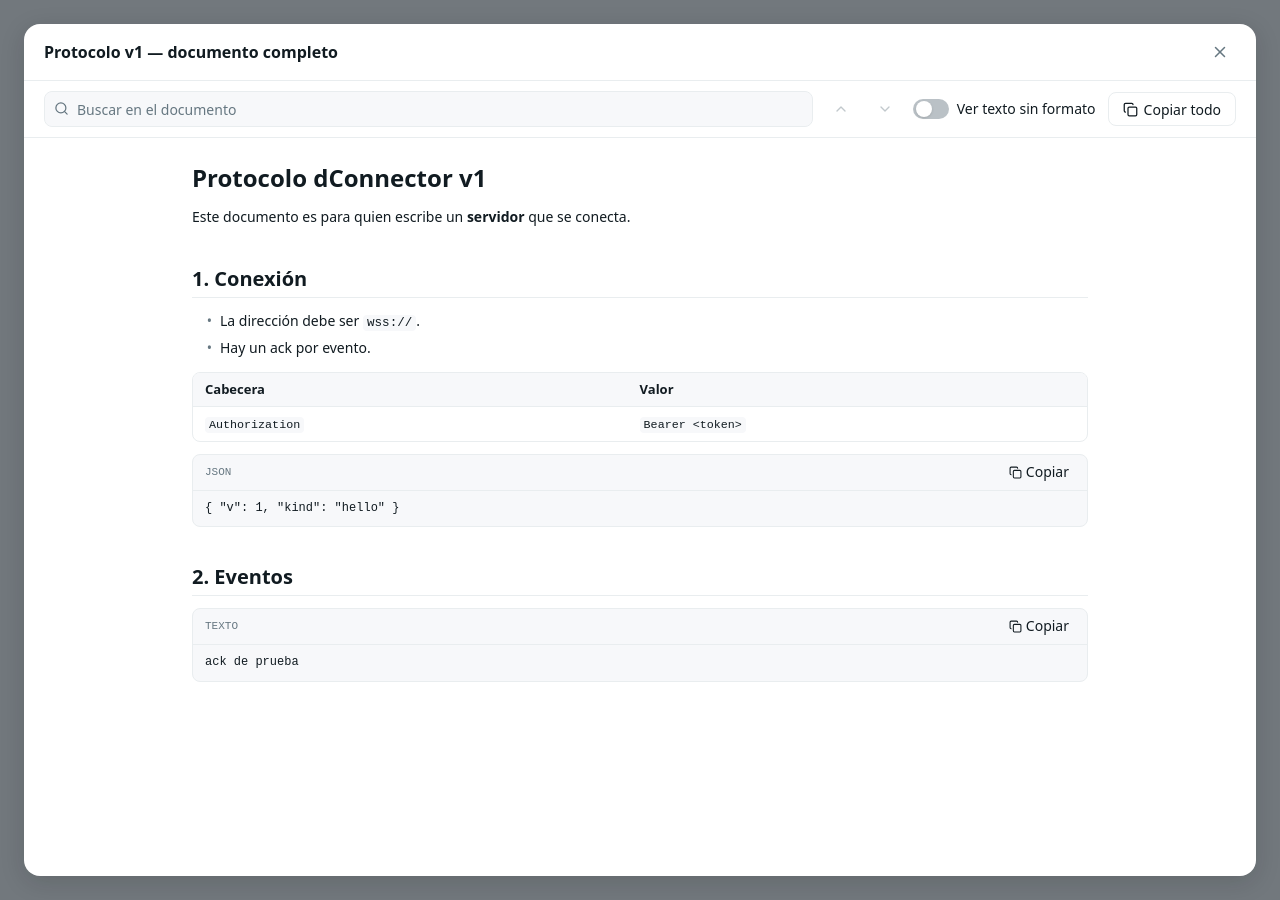
Test: diálogo del protocolo › encuentra sin distinguir tildes y avisa si no hay resultados
This screenshot has width=1280, height=900.
Expected: the heading "Protocolo dConnector v1" is shown, [192,161,486,194]
Type "conexion" into the search field labelled "Buscar en el documento".
click(428, 109); type("conexion")  # box [44,91,813,127]
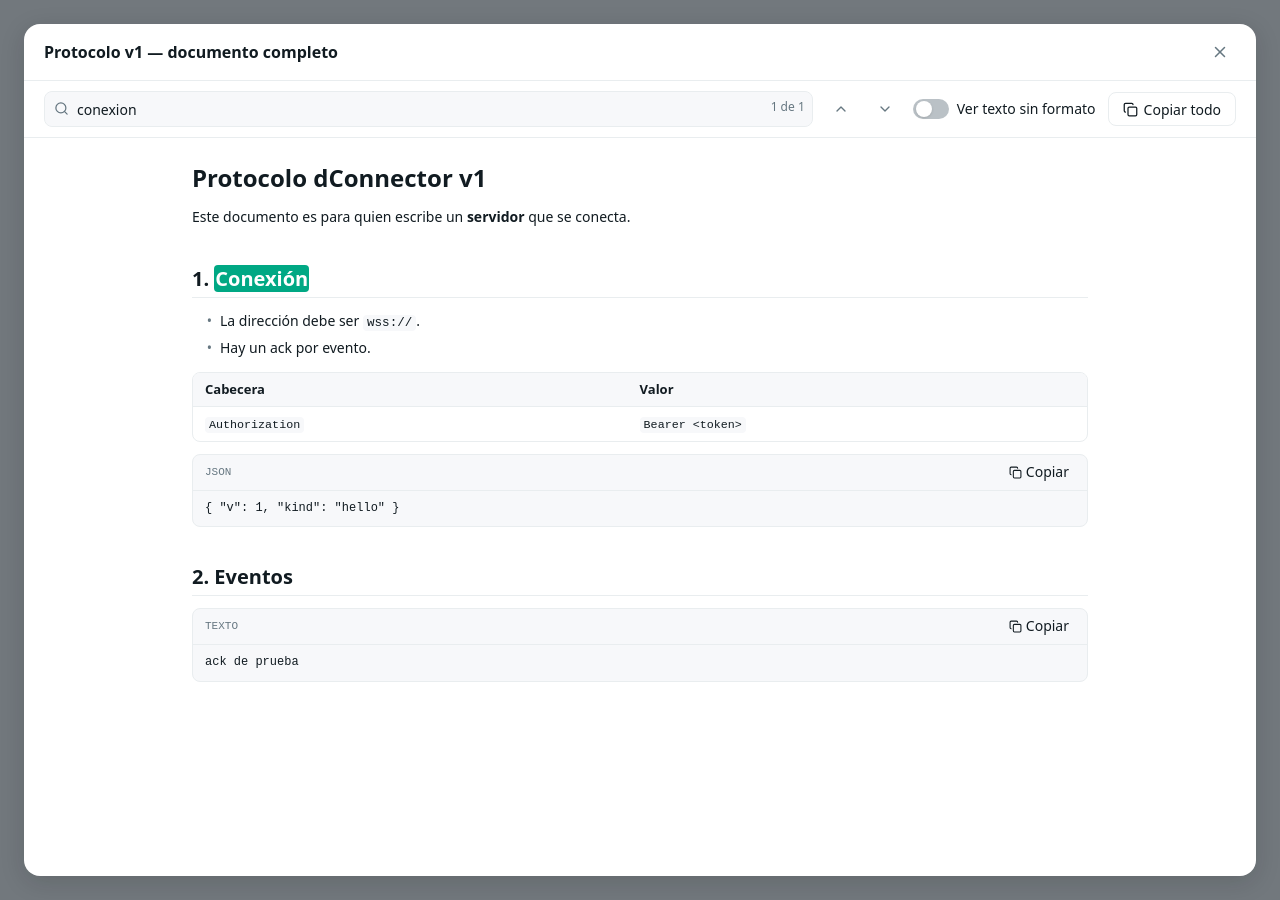
Result: the text with test id "md-count" reads "1 de 1" at [771,98,805,115]
Replace the text in the search field named "Buscar en el documento" with "nada de nada" at [428, 109], box [44,91,813,127]
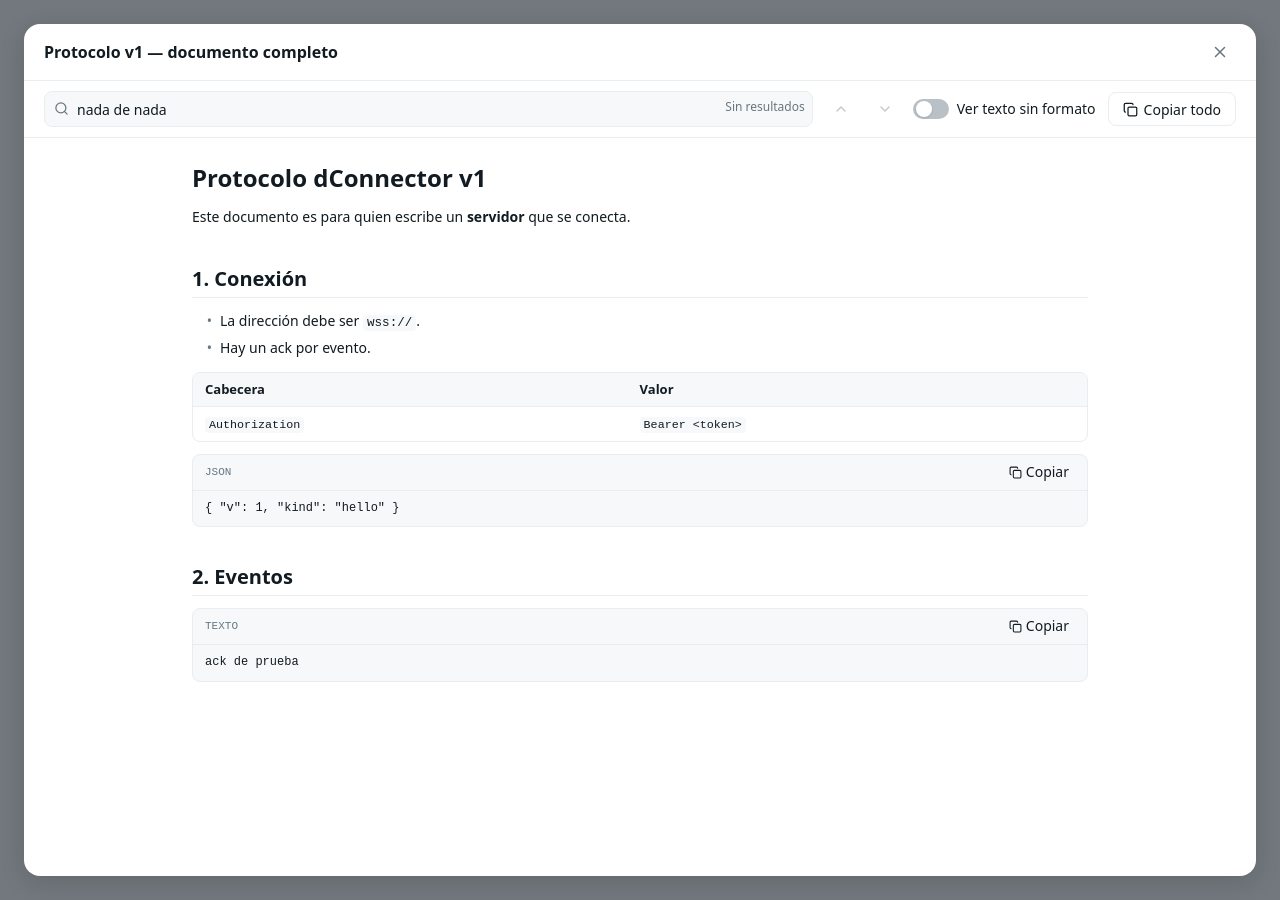
Expected: the button named "Resultado siguiente" is disabled, [869,93,901,125]
Result: the text with test id "md-count" reads "Sin resultados" at [725,98,805,115]
Clear the search field named "Buscar en el documento" at [428, 109], box [44,91,813,127]
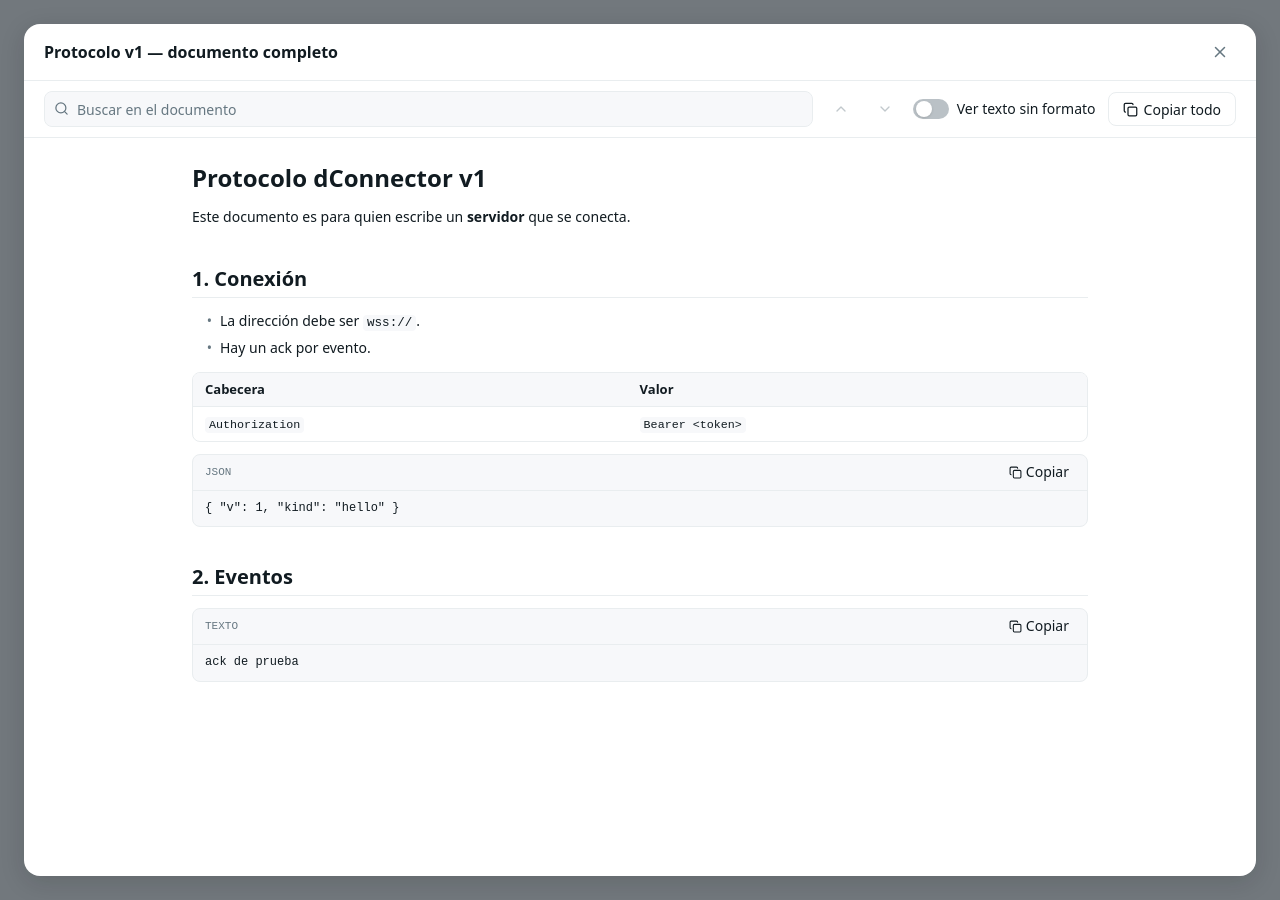
Result: the text with test id "md-count" is gone
